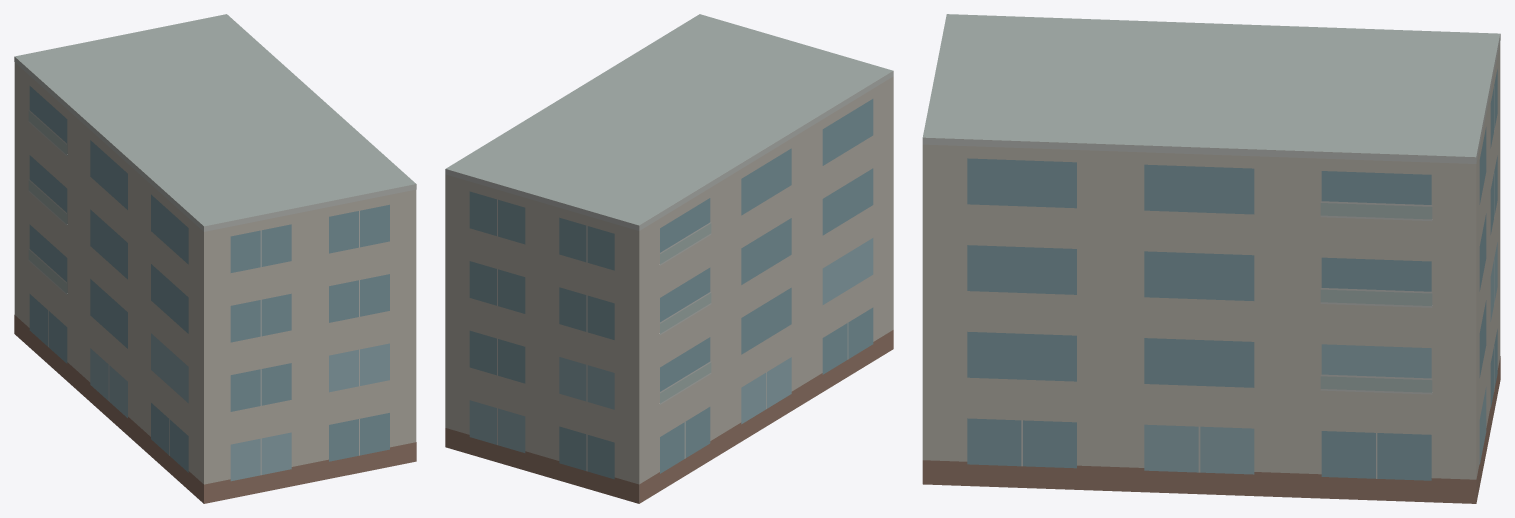
Rendered from residential-2cde55e6-dbfc-4234-b5be-2f9ffa55c240.glb.
3 renders of one model, left to right at view 1: azimuth 30°, elevation 25°; view 2: azimuth 150°, elevation 25°; view 3: azimuth 270°, elevation 25°, orthographic. The views are drawn at different scales.
Parts seen in each view (by area): view 1: residential-2cde55e6-dbfc-4234-b5be-2f9ffa55c240.tmp; view 2: residential-2cde55e6-dbfc-4234-b5be-2f9ffa55c240.tmp; view 3: residential-2cde55e6-dbfc-4234-b5be-2f9ffa55c240.tmp.
Part boxes in pixels (x1,y1,x2,y2): residential-2cde55e6-dbfc-4234-b5be-2f9ffa55c240.tmp: (14, 14, 416, 503); residential-2cde55e6-dbfc-4234-b5be-2f9ffa55c240.tmp: (445, 14, 893, 503); residential-2cde55e6-dbfc-4234-b5be-2f9ffa55c240.tmp: (922, 14, 1500, 503).
Size of the model in its own units: 10.81 by 12.2 by 18.44.
